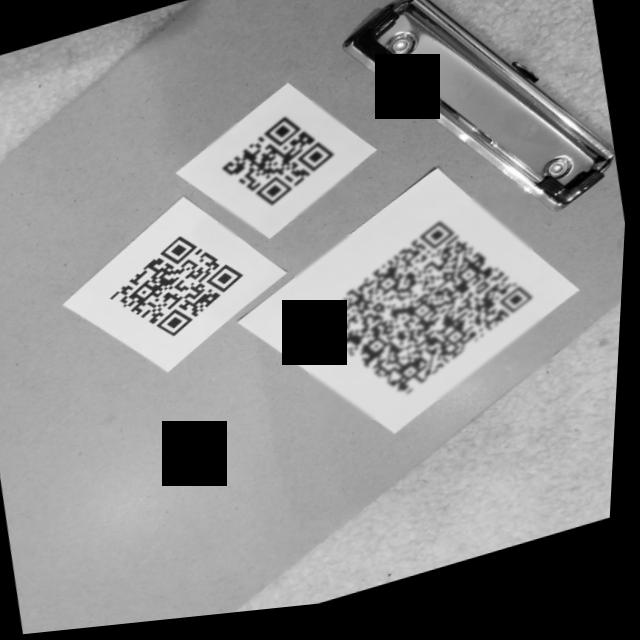QR_CODE: (286, 192, 563, 447), (90, 216, 265, 370), (203, 98, 363, 248)
